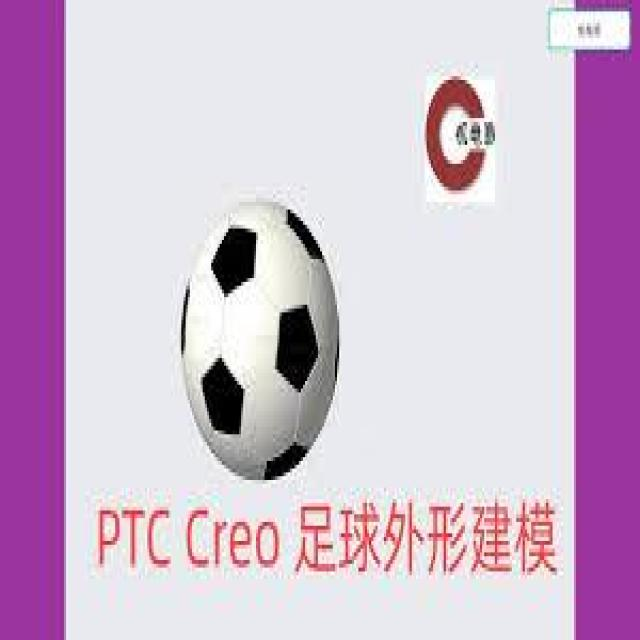Soccer Ball: (182, 198, 340, 476)
